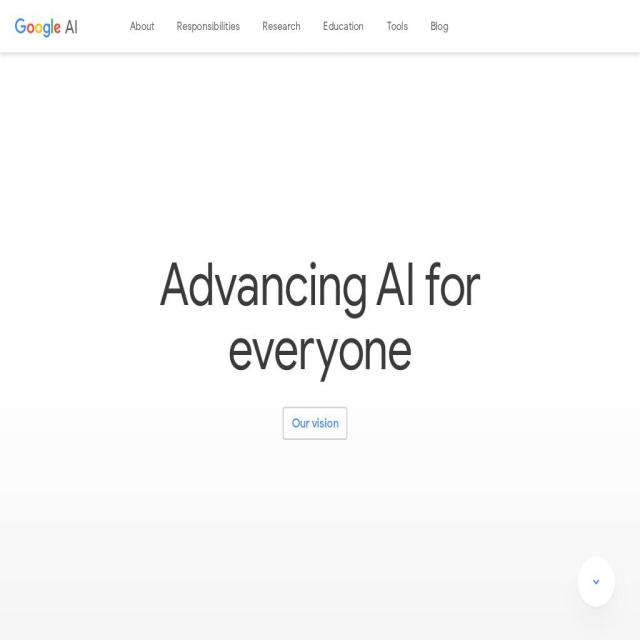button: (177, 0, 241, 53), (14, 0, 77, 53), (323, 0, 364, 53), (262, 0, 301, 53), (130, 0, 155, 53), (386, 0, 408, 53), (430, 0, 448, 53)
image: (0, 0, 498, 252), (29, 476, 640, 588), (17, 0, 640, 101), (21, 234, 189, 346), (452, 238, 620, 350), (140, 470, 308, 582), (138, 11, 306, 122), (352, 473, 519, 584), (353, 0, 520, 107), (558, 468, 640, 579), (582, 0, 640, 98), (577, 556, 615, 606), (15, 18, 61, 38)
text: (65, 10, 77, 43)
